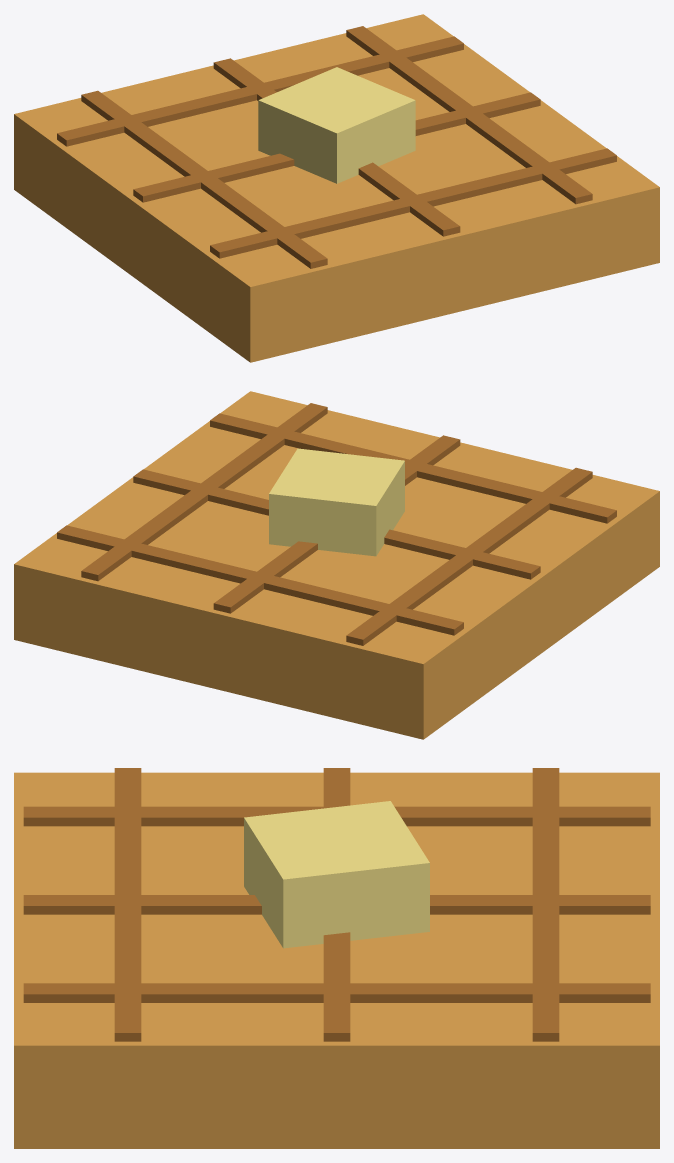
Rendered from Food_Waffle.obj.
3 views of the same model, one above another, from view 1: azimuth 30°, elevation 25°; view 2: azimuth 150°, elevation 25°; view 3: azimuth 270°, elevation 25° (orthographic). The views are drawn at different scales.
Bounding box in the file's own units: 1.7 × 0.5 × 1.7.
